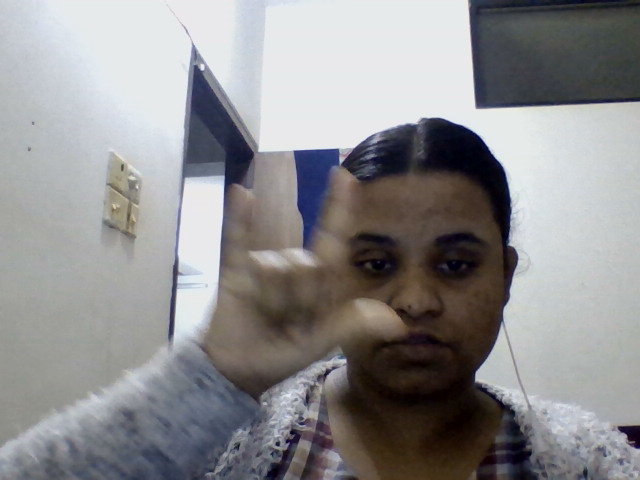I Love You: (186, 141, 452, 393)
